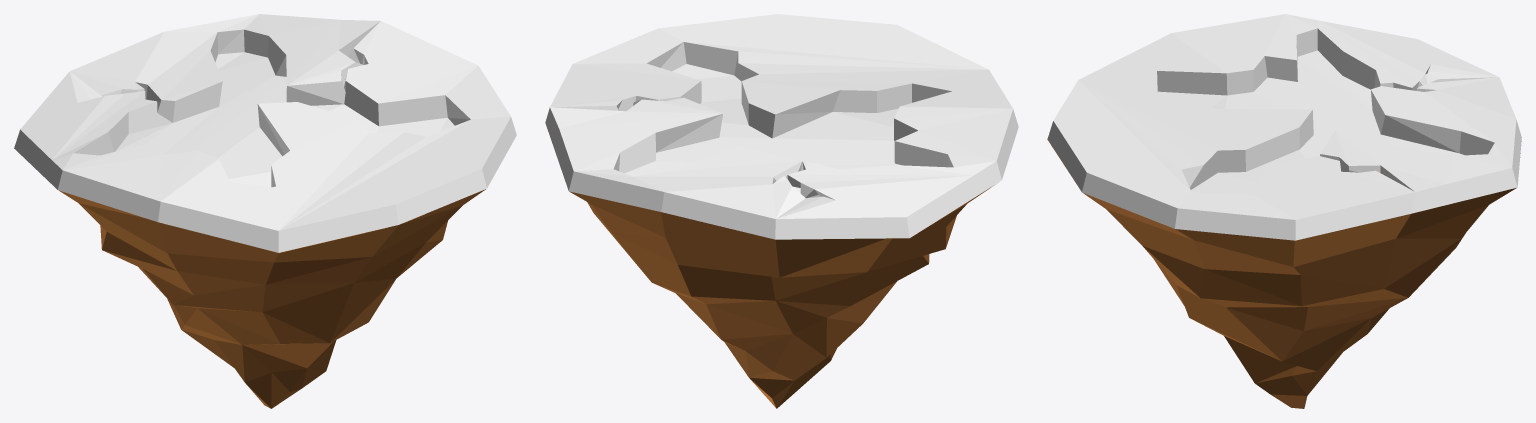
The model's file is island9.fbx.
3 views of the same model, side by side, from view 1: azimuth 30°, elevation 25°; view 2: azimuth 150°, elevation 25°; view 3: azimuth 270°, elevation 25° (orthographic).
Visible parts, largest first — view 1: Cylinder.002, Cylinder; view 2: Cylinder.002, Cylinder; view 3: Cylinder.002, Cylinder.
Boxes of the visible parts, x1,y1,x2,y2 form: Cylinder.002: [14, 14, 516, 252]; Cylinder: [59, 189, 485, 408]; Cylinder.002: [545, 14, 1018, 239]; Cylinder: [548, 131, 994, 408]; Cylinder.002: [1047, 14, 1521, 240]; Cylinder: [1047, 139, 1521, 408].
Size of the model in its own units: 10131 by 6781 by 9710.
